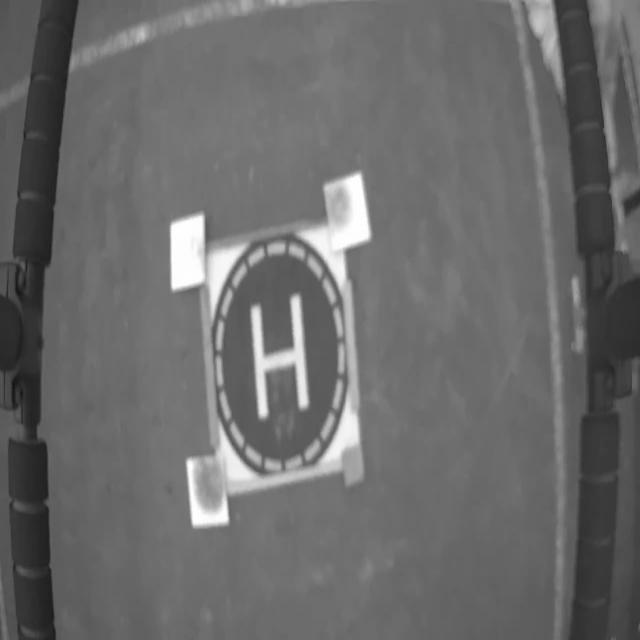Helipad: (251, 294, 311, 418)
